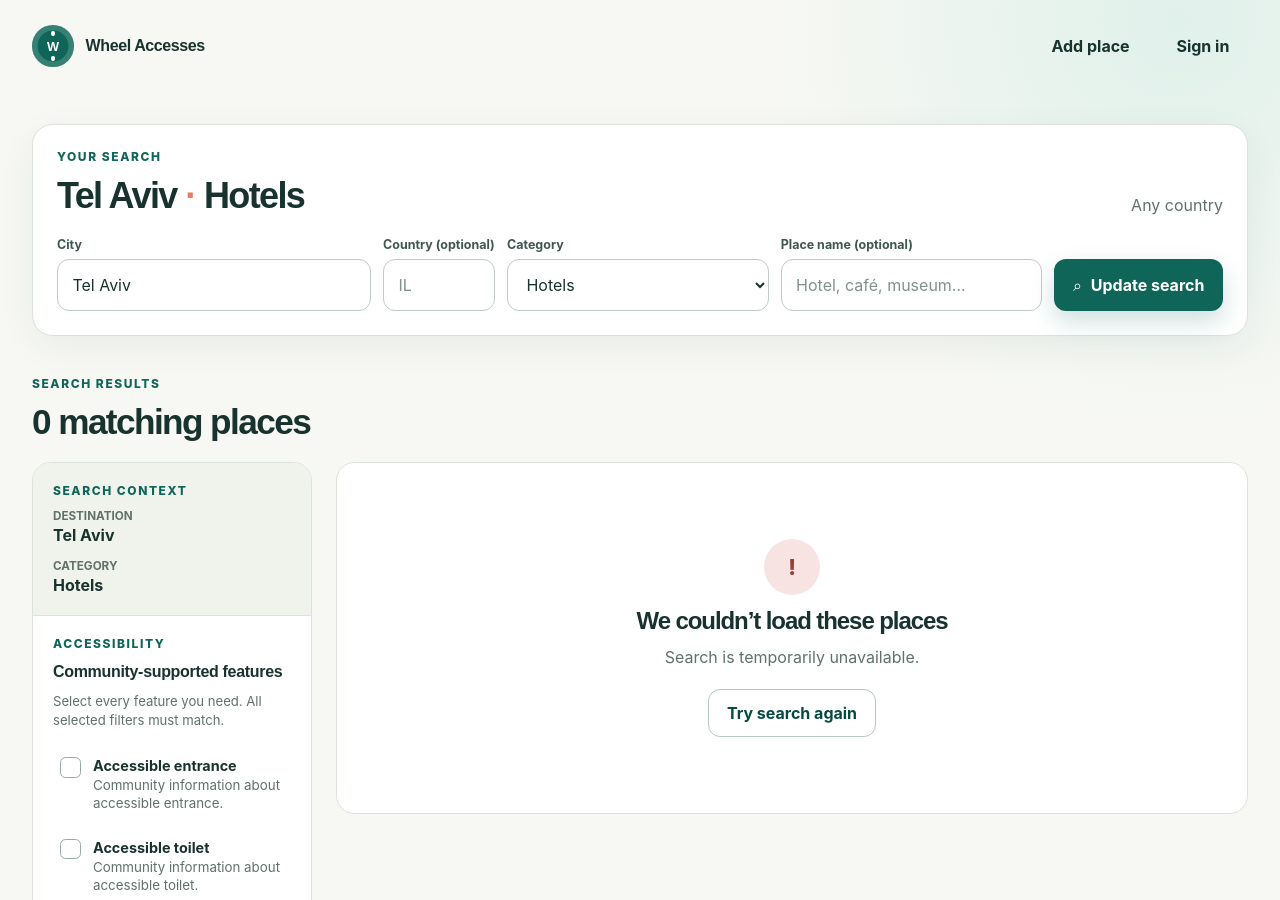
Test: search result states › shows a safe error with a working retry action
Expected: the heading "We couldn’t load these places" is shown, [636, 607, 948, 635]
Click the button "Try search again".
click(792, 713)  # box [708, 689, 876, 737]
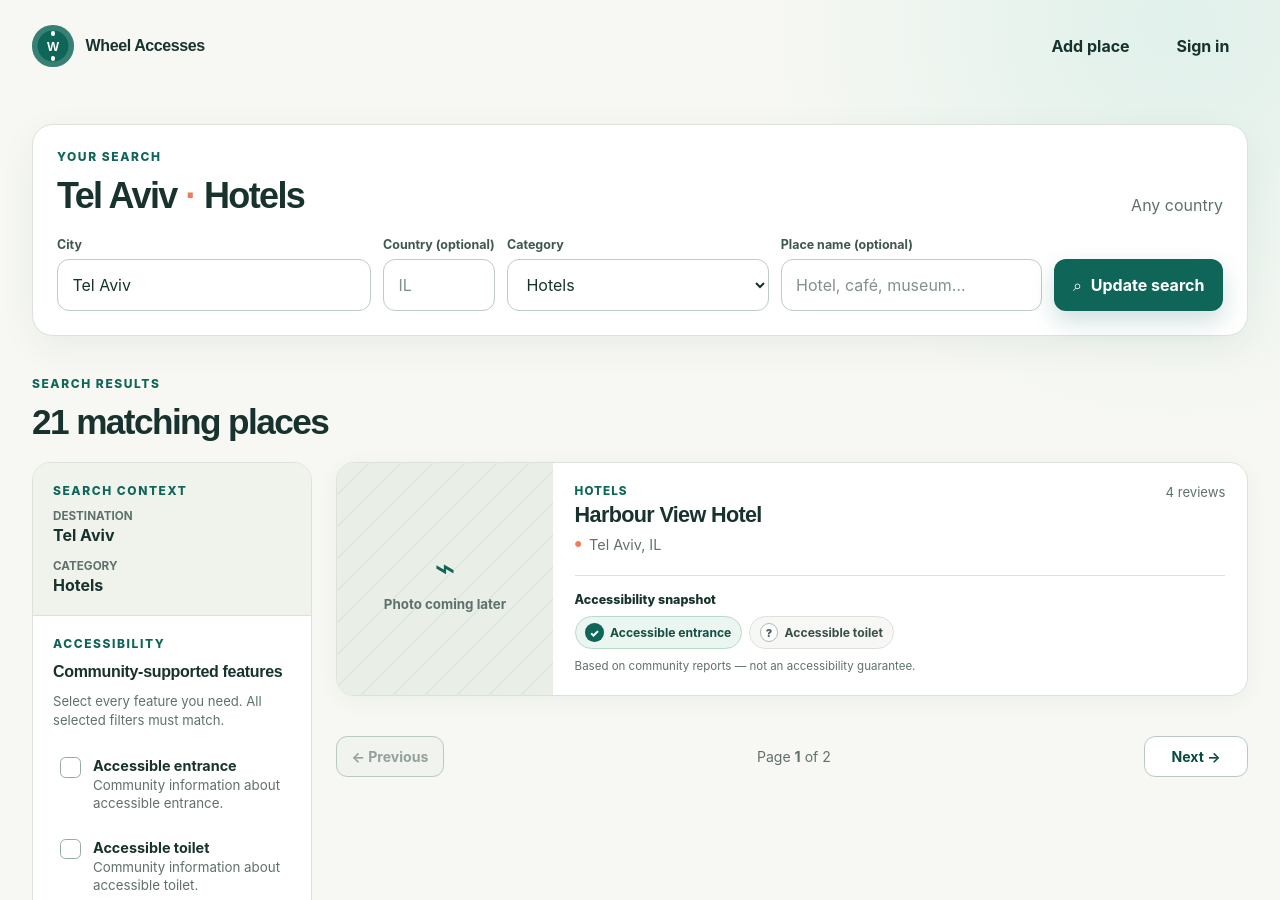
Now the heading "Harbour View Hotel" is shown, box [575, 502, 762, 528]
